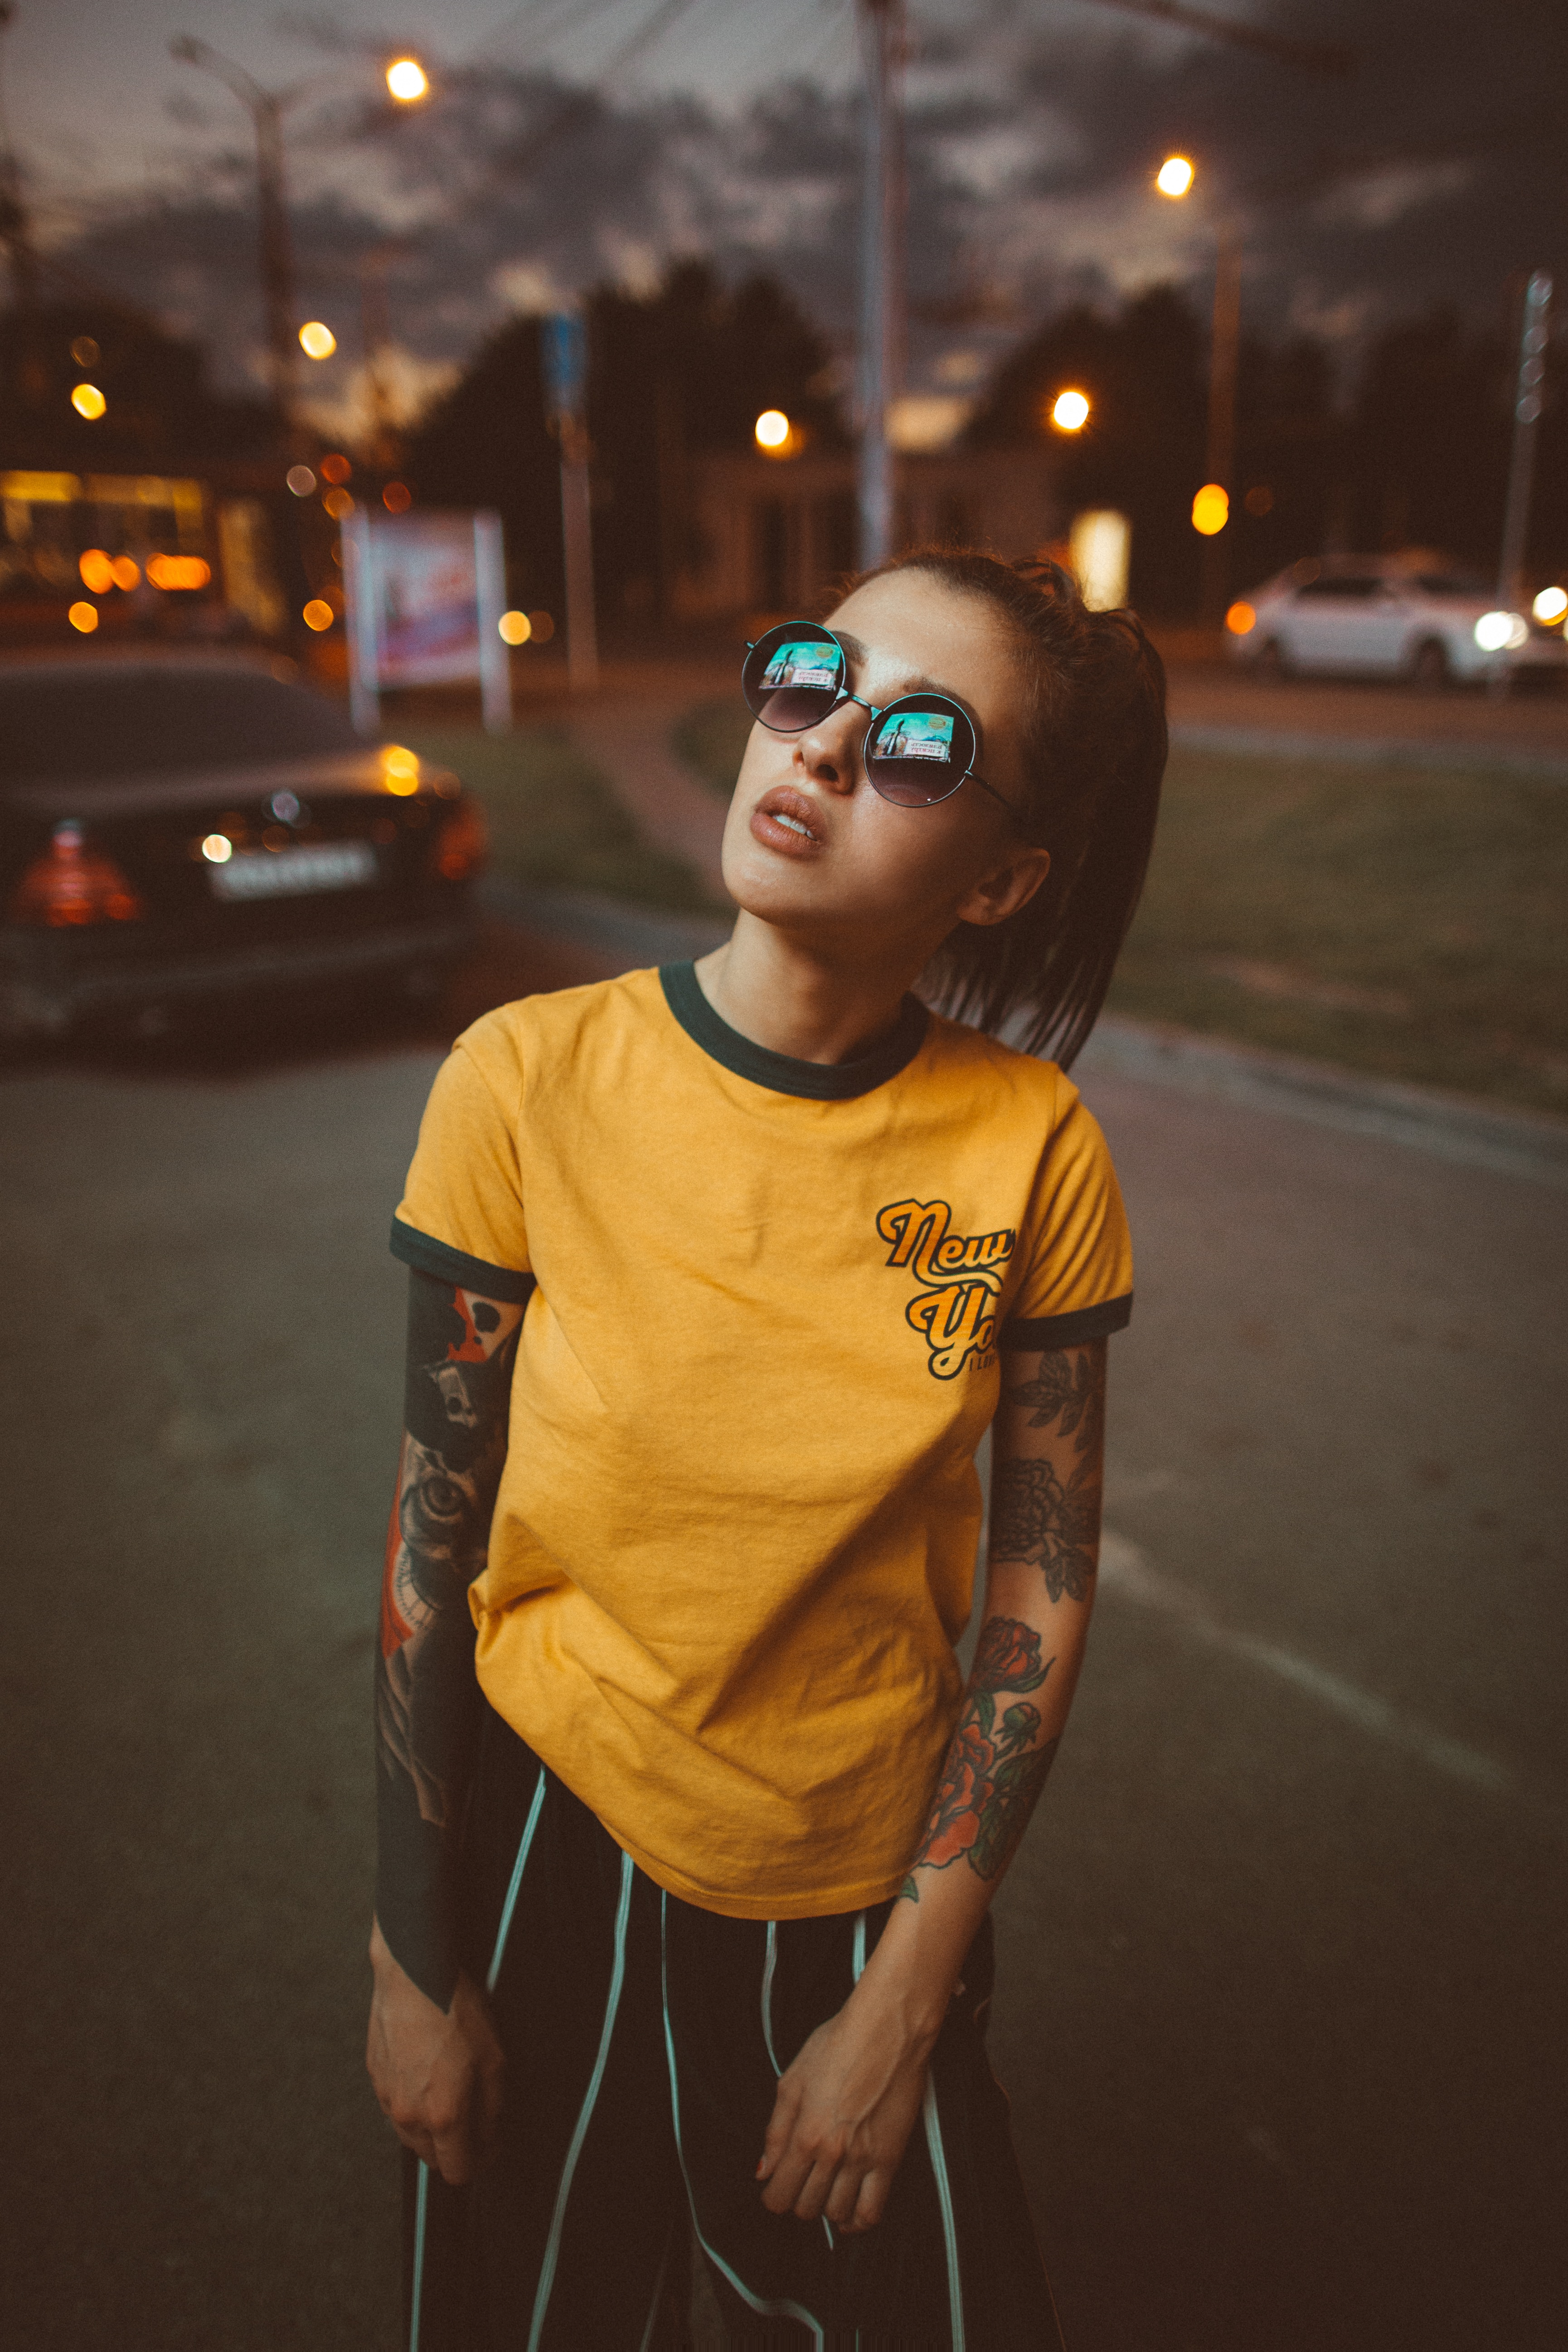person: (352, 534, 1201, 2352)
